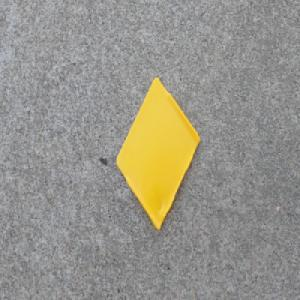PlasticPart: (115, 75, 201, 234)
